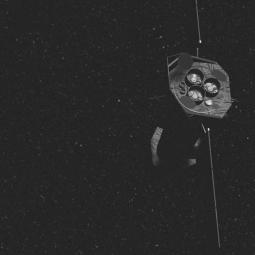xmm_newton: (149, 29, 242, 238)
